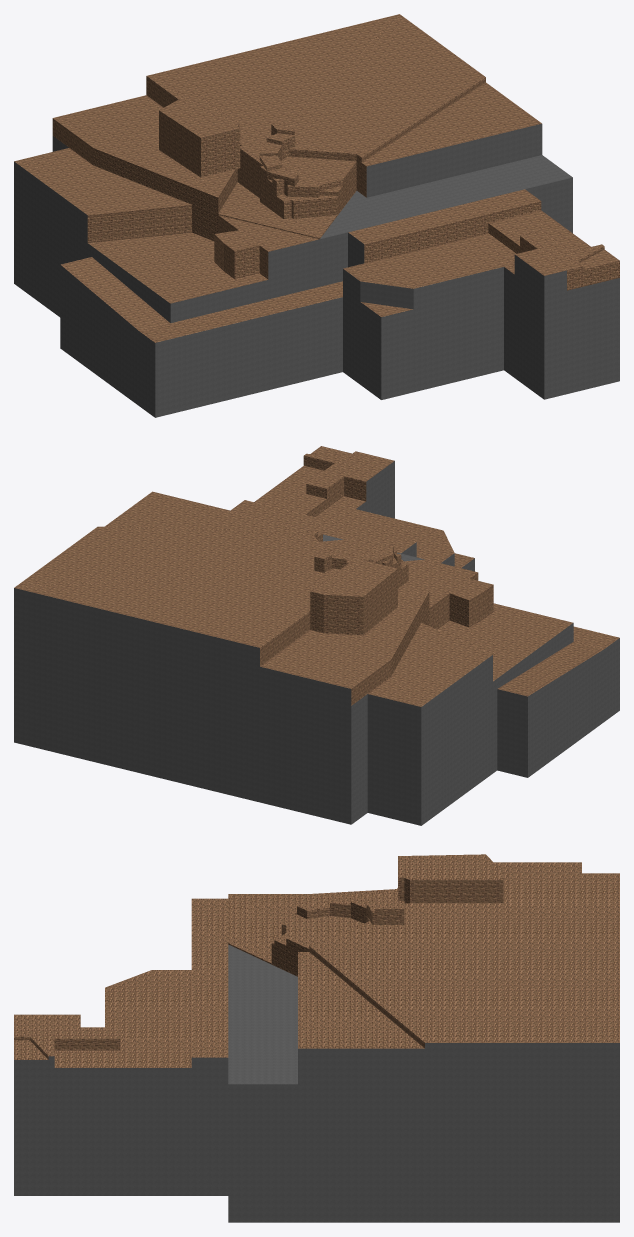
Rendered from caminos.glb.
3 renders of one model, top to bottom at view 1: azimuth 30°, elevation 25°; view 2: azimuth 150°, elevation 25°; view 3: azimuth 270°, elevation 25°, orthographic. The views are drawn at different scales.
Parts seen in each view (by area): view 1: 38664; view 2: 38664; view 3: 38664.
Part boxes in pixels (x1=…): 38664: x1=14, y1=14, x2=619, y2=417; 38664: x1=14, y1=446, x2=619, y2=825; 38664: x1=14, y1=854, x2=619, y2=1222.
Size of the model in its own units: 70.79 by 27.97 by 75.76.
Materials: 151 (150 with a texture image).
